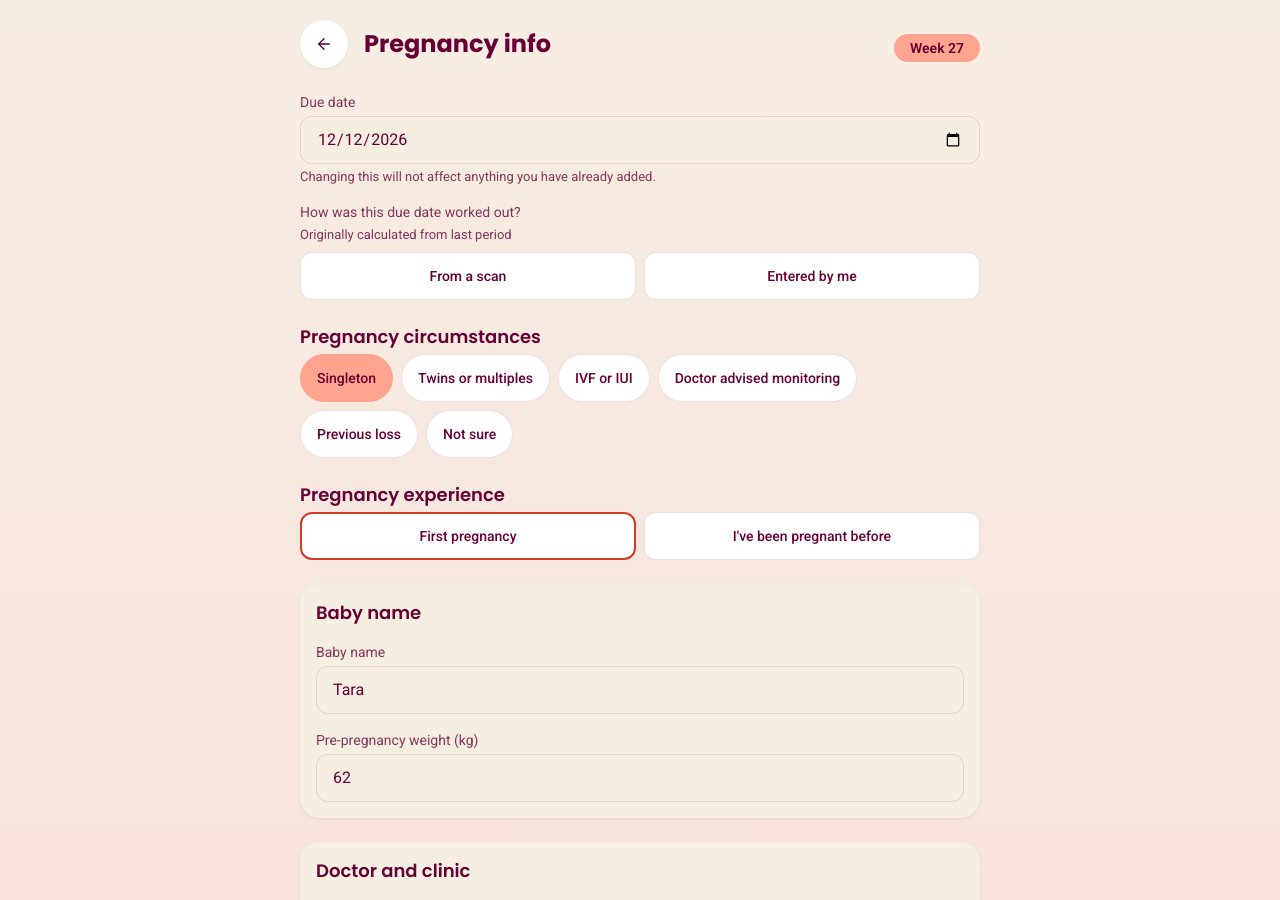
it: PregnancyInfoForm › saves a due-date correction as scan/manual and all reused values together
The image size is (1280, 900).
Step 1. Click the button "From a scan" → [468, 276], box [300,252,636,300]
(page scrolled)
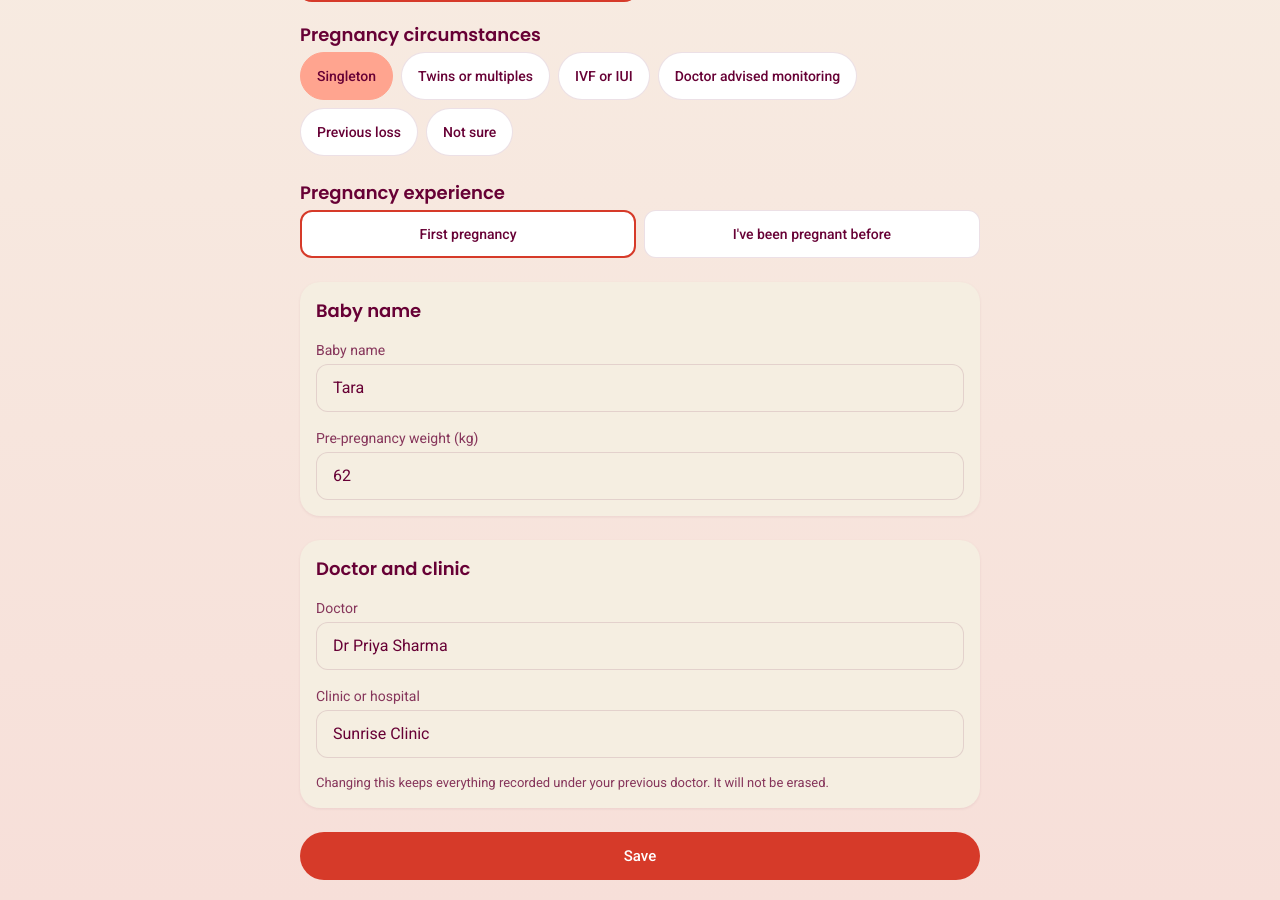
Step 2. Click the button "Save" → [640, 856], box [300,832,980,880]
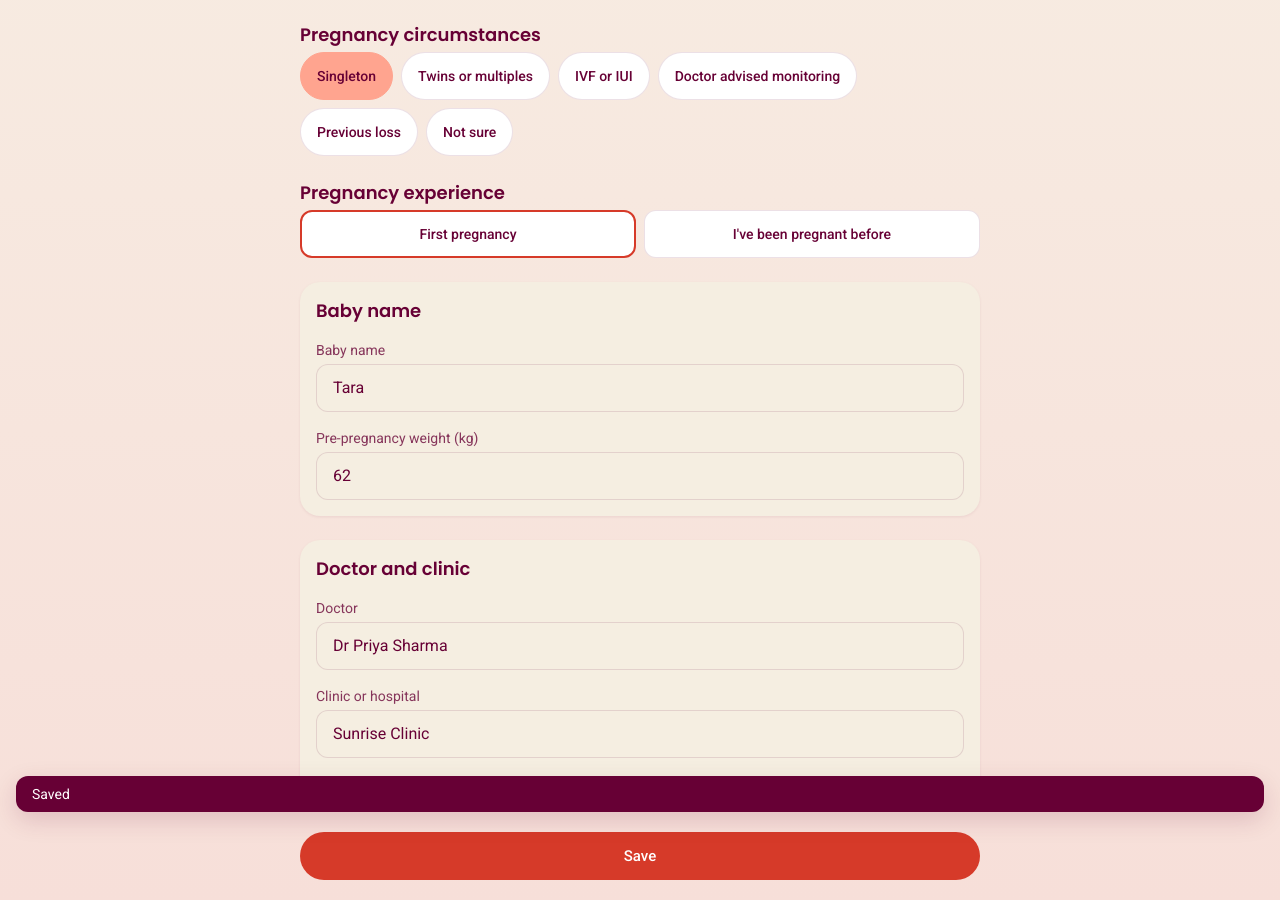
Result: the message reads "Saved" at [32,786,70,802]
